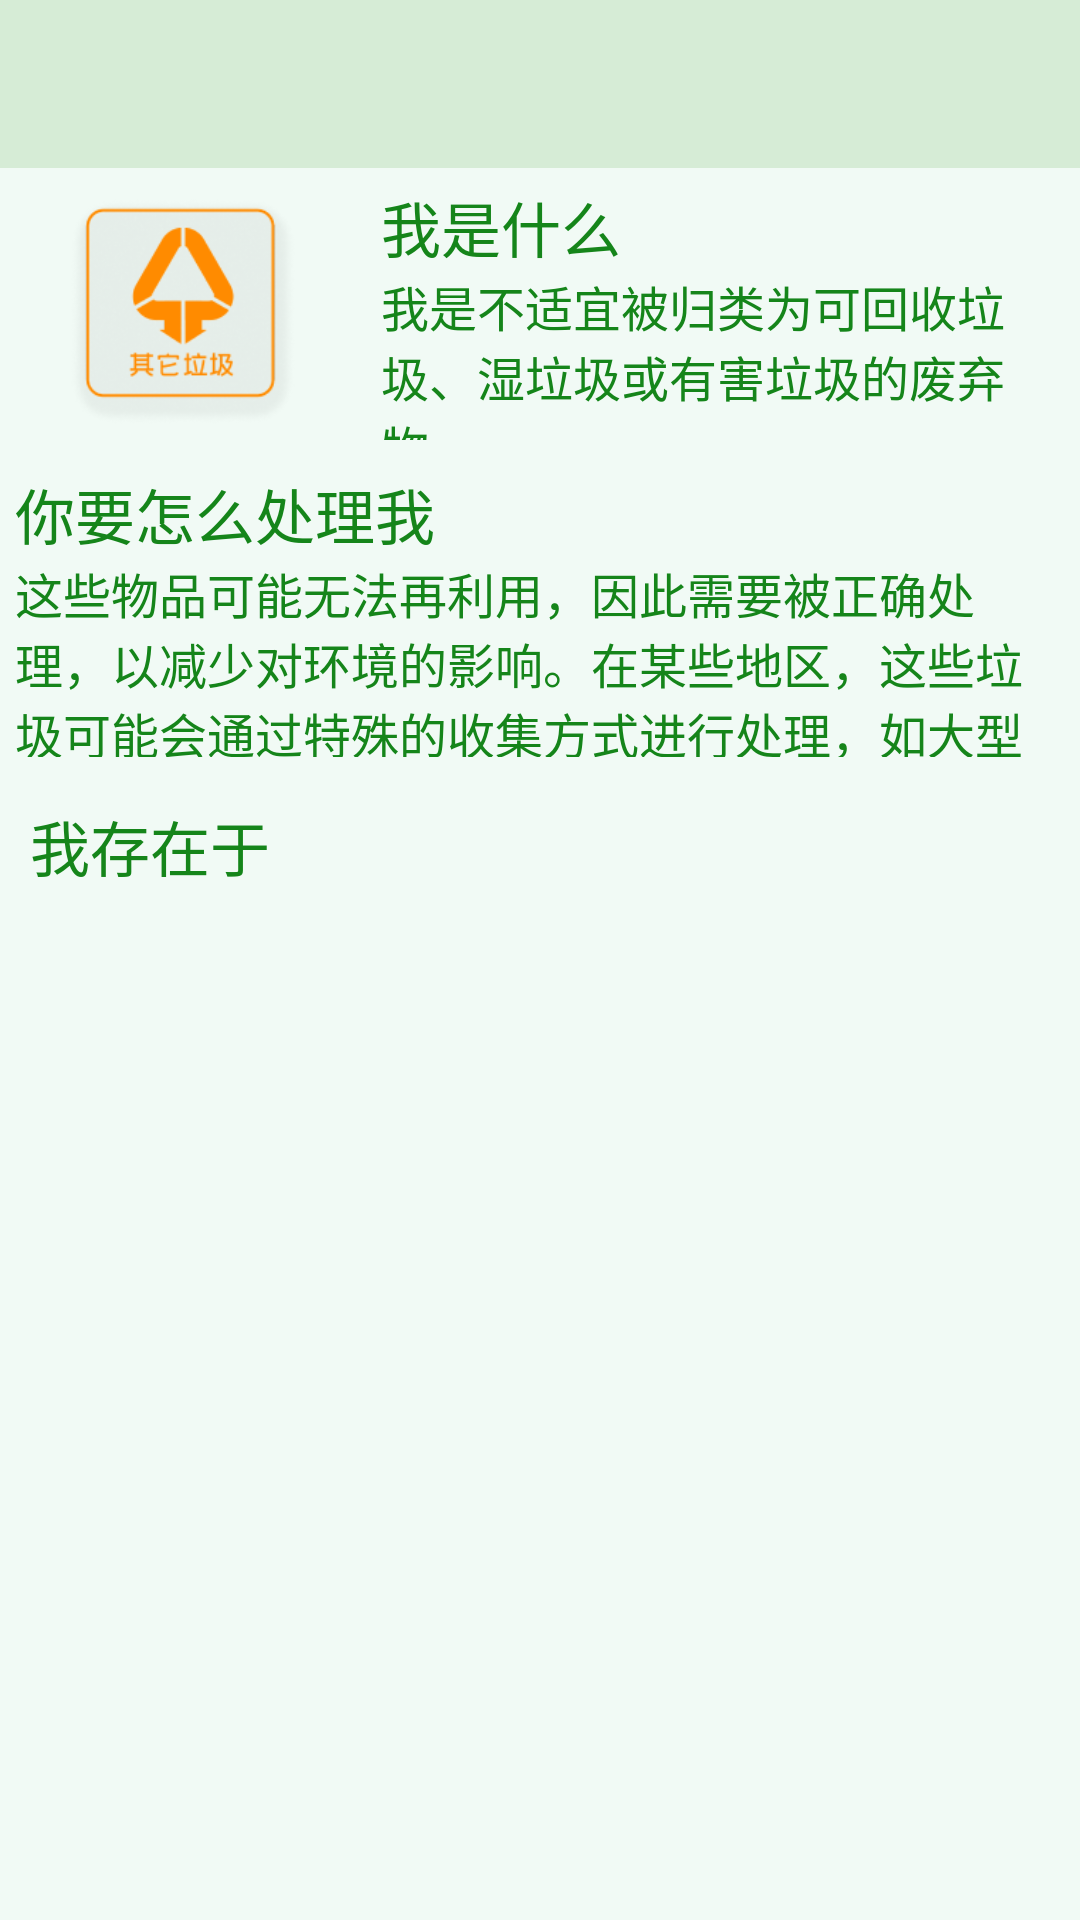

Icons on this 1080w x 1920h Android screen, each with the point to tap as (x,y):
dry: (183,311)
